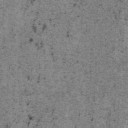oxide scale of temperature system: (32, 24, 36, 32), (28, 115, 34, 120), (30, 0, 35, 5), (42, 24, 46, 30), (37, 76, 40, 83), (29, 38, 33, 42)
